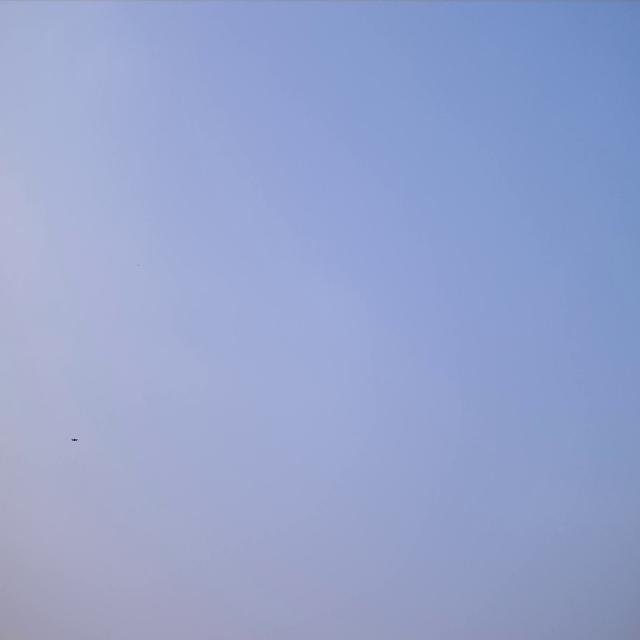UAV: (70, 436, 78, 442)
